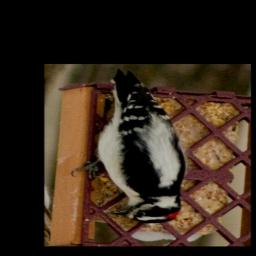Woodpecker: (71, 69, 184, 223)
